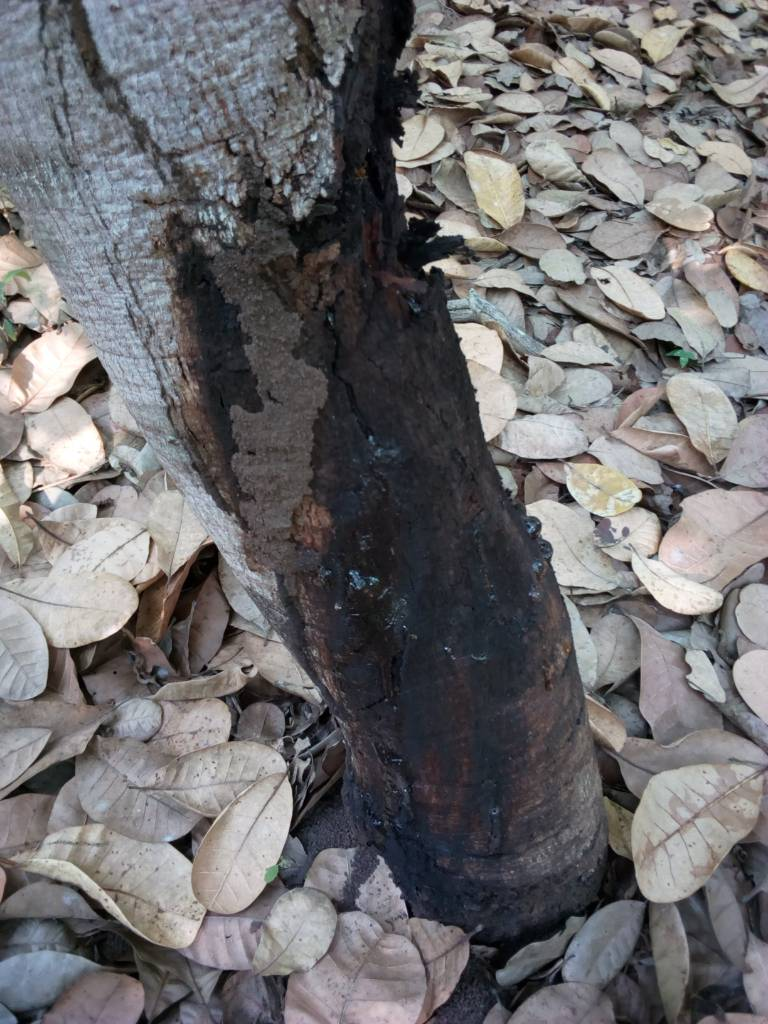Gommose: (321, 314, 554, 855)
